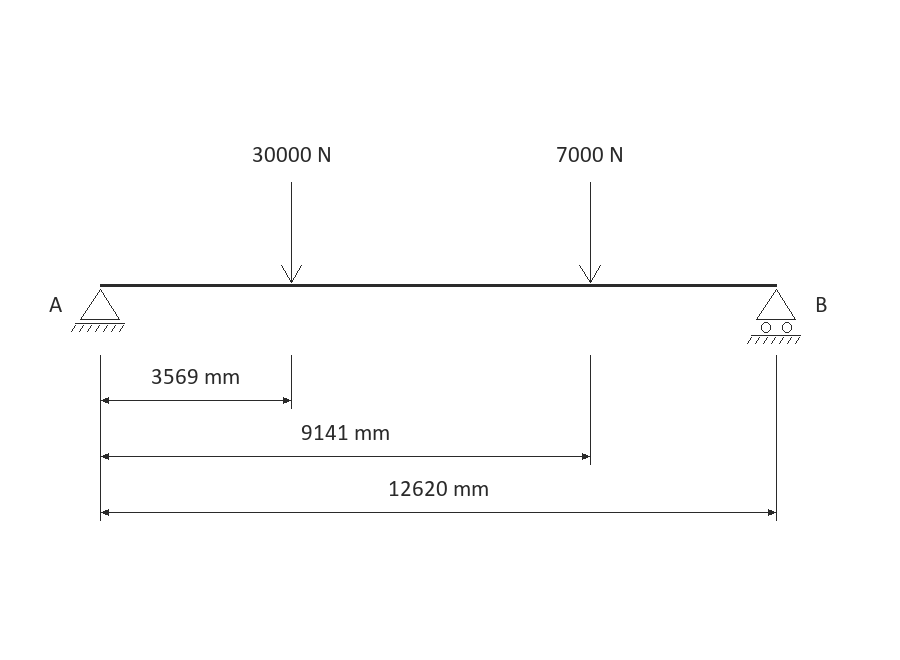pin_support: (71, 289, 125, 332)
point_load: (579, 182, 601, 283), (281, 182, 302, 283)
roller_support: (747, 289, 801, 344)
